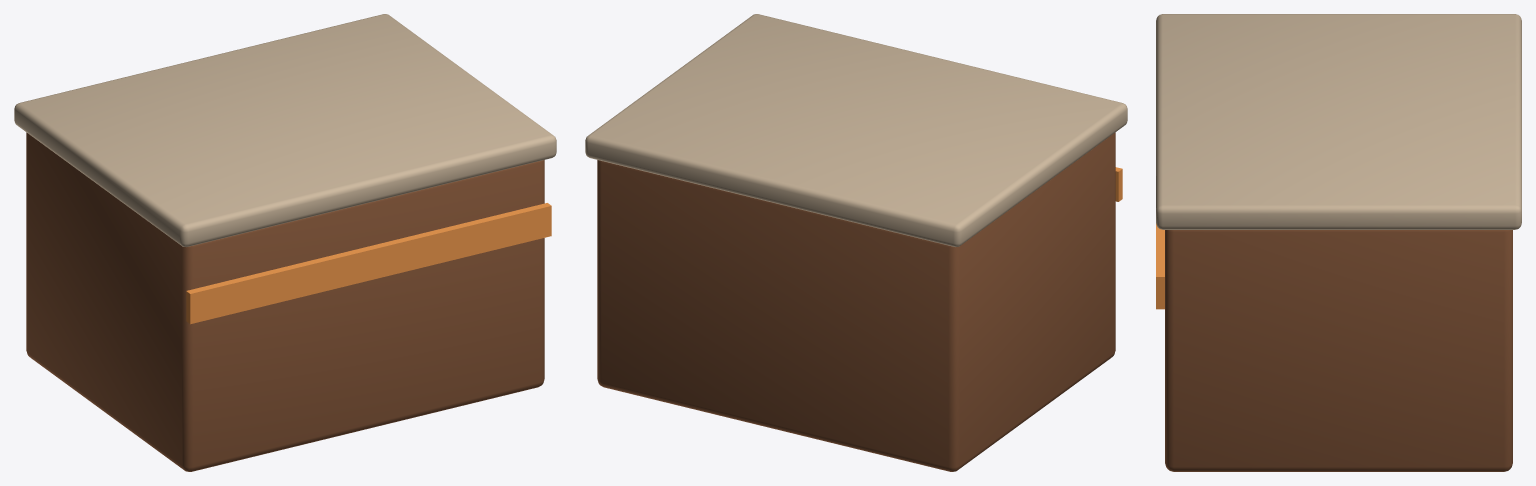
File: counter.glb
3 views of the same model, side by side, from view 1: azimuth 30°, elevation 25°; view 2: azimuth 150°, elevation 25°; view 3: azimuth 270°, elevation 25° (orthographic). The views are drawn at different scales.
Visible parts, largest first — view 1: body.020, top.006, stripe.002; view 2: body.020, top.006; view 3: body.020, top.006, stripe.002.
Part boxes in pixels (bbox=[...]): body.020: bbox=[26, 132, 544, 471]; top.006: bbox=[14, 14, 556, 246]; stripe.002: bbox=[186, 203, 551, 324]; body.020: bbox=[597, 132, 1115, 471]; top.006: bbox=[585, 14, 1127, 246]; body.020: bbox=[1165, 230, 1512, 471]; top.006: bbox=[1156, 14, 1521, 229]; stripe.002: bbox=[1156, 223, 1164, 309].
Size of the model in its own units: 1.04 by 0.67 by 0.82.
